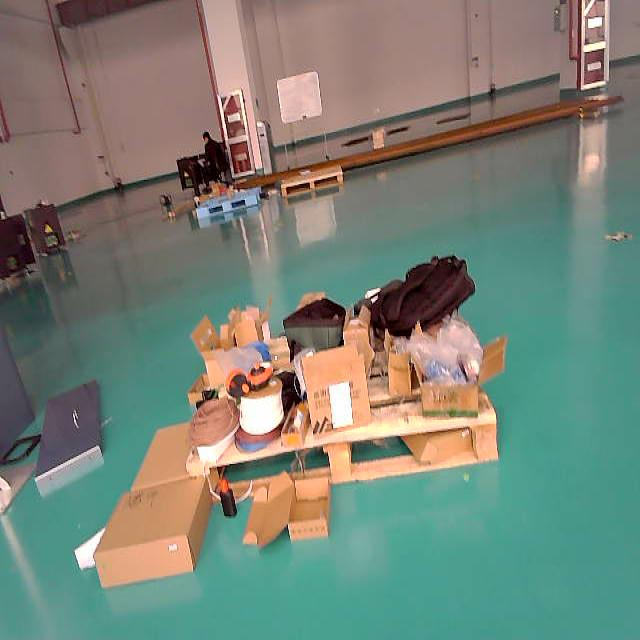euro: (155, 317, 510, 456)
